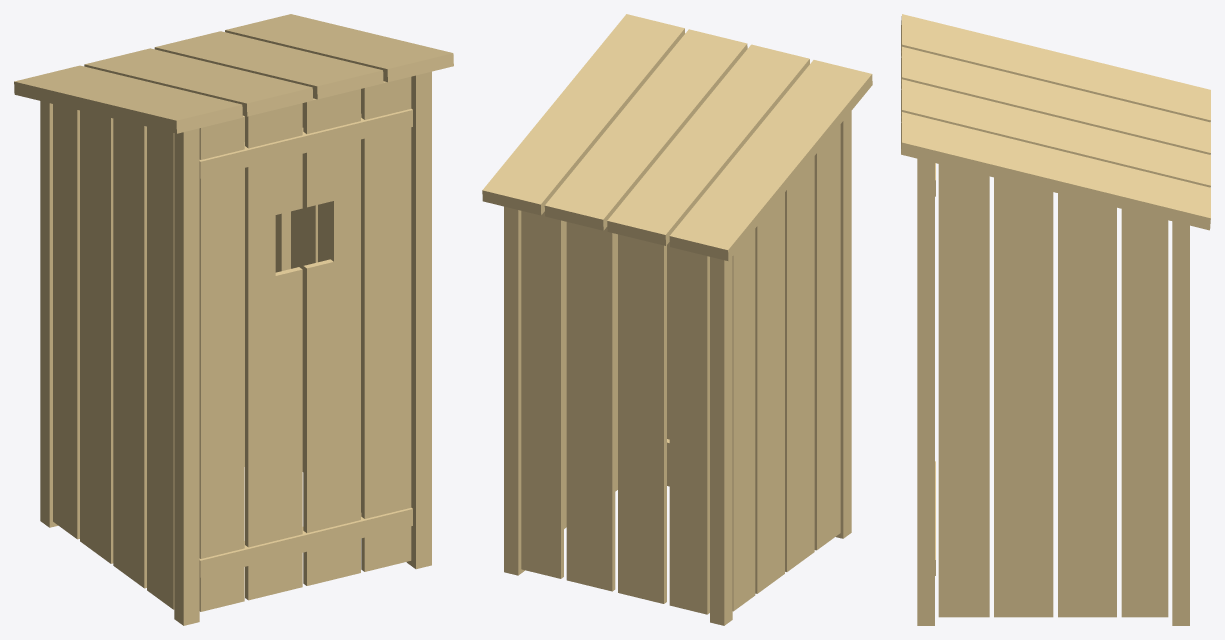
File: toilet.fbx
The picture shows the model from 3 angles, left to right: view 1: azimuth 30°, elevation 25°; view 2: azimuth 150°, elevation 25°; view 3: azimuth 270°, elevation 25°; orthographic projection. The views are drawn at different scales.
Visible parts, largest first — view 1: Cube.027, Cube.016, Cube.015, Cube.017, Cube.003, Cube.014, Cube.004, Cube.030, Cube.029, Cube.028, Cube.031, Cube.001 (+3 smaller); view 2: Cube.019, Cube.020, Cube.018, Cube.030, Cube.021, Cube.028, Cube.031, Cube.029, Cube.016, Cube.015, Cube.017, Cube.014 (+6 smaller); view 3: Cube.011, Cube.012, Cube.010, Cube.013, Cube.031, Cube.030, Cube.029, Cube.028, Cube.004, Cube.002.
Boxes of the visible parts, left/top/right/bottom form: Cube.027: left=199, top=77, right=412, bottom=611; Cube.016: left=113, top=118, right=146, bottom=588; Cube.015: left=80, top=110, right=113, bottom=563; Cube.017: left=147, top=126, right=174, bottom=609; Cube.003: left=174, top=128, right=199, bottom=625; Cube.014: left=53, top=104, right=79, bottom=539; Cube.004: left=406, top=71, right=431, bottom=569; Cube.030: left=14, top=65, right=242, bottom=133; Cube.029: left=84, top=48, right=313, bottom=116; Cube.028: left=154, top=31, right=383, bottom=99; Cube.031: left=225, top=14, right=453, bottom=82; Cube.001: left=40, top=101, right=57, bottom=527; Cube.019: left=566, top=222, right=615, bottom=591; Cube.020: left=618, top=234, right=666, bottom=603; Cube.018: left=521, top=211, right=563, bottom=578; Cube.030: left=669, top=60, right=872, bottom=261; Cube.021: left=669, top=242, right=709, bottom=614; Cube.028: left=544, top=29, right=747, bottom=230; Cube.031: left=482, top=14, right=684, bottom=215; Cube.029: left=607, top=44, right=809, bottom=245; Cube.016: left=785, top=156, right=814, bottom=571; Cube.015: left=755, top=192, right=784, bottom=593; Cube.017: left=814, top=124, right=840, bottom=550; Cube.014: left=732, top=229, right=755, bottom=611; Cube.011: left=994, top=177, right=1053, bottom=617; Cube.012: left=1058, top=193, right=1116, bottom=617; Cube.010: left=938, top=164, right=989, bottom=617; Cube.013: left=1121, top=209, right=1168, bottom=617; Cube.031: left=901, top=112, right=1210, bottom=230; Cube.030: left=901, top=14, right=1210, bottom=122; Cube.029: left=901, top=46, right=1210, bottom=154; Cube.028: left=901, top=79, right=1210, bottom=187; Cube.004: left=917, top=158, right=934, bottom=625; Cube.002: left=1172, top=221, right=1189, bottom=625.
Bounding box in the file's own units: 239 × 424 × 243.
